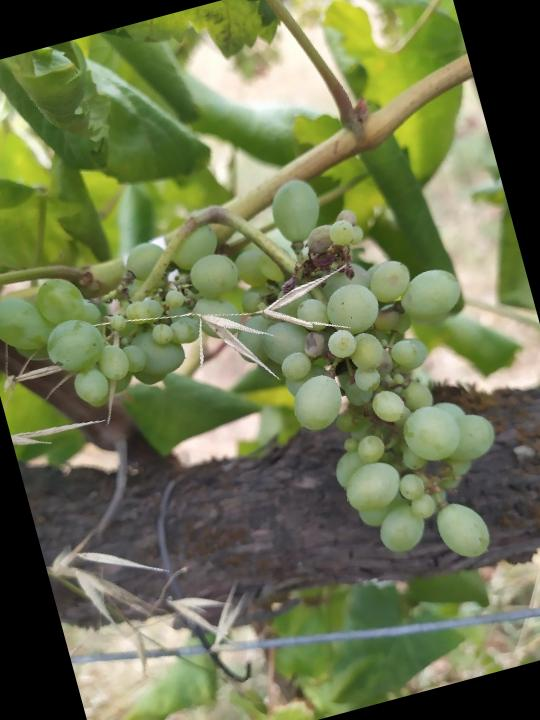grape: (0, 146, 531, 670)
